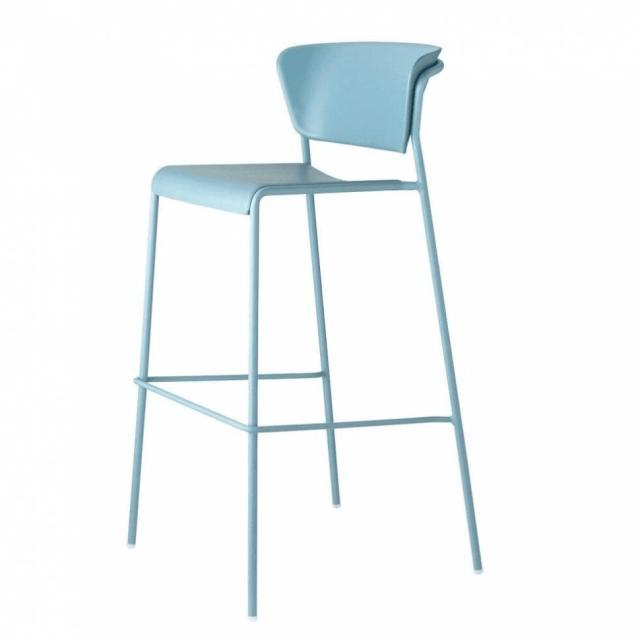chair: (123, 36, 489, 624), (150, 40, 444, 214)
